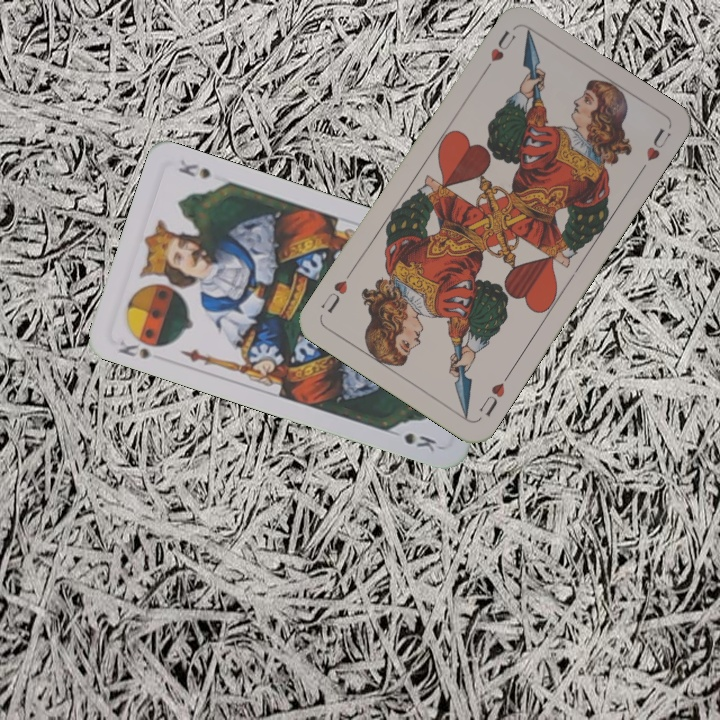HU: (478, 27, 519, 77), (474, 369, 513, 420)
SK: (111, 336, 155, 362)
